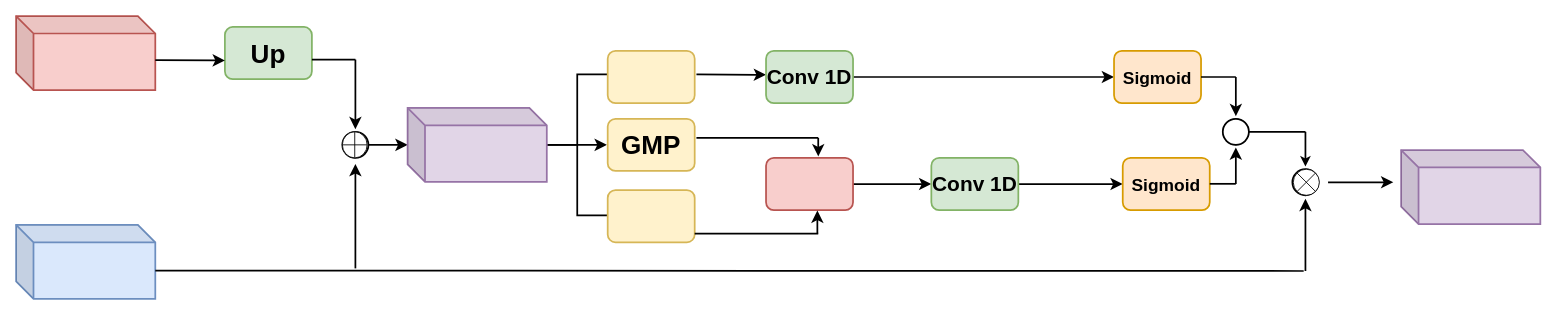
This 1556x314 diagram has some shape labels left out. Here are the shapes that lost their labels. From the top down, the centre of each, then its label:
At pixel 650 77: "AP".
At pixel 809 184: "Concat".
At pixel 650 216: "GAP".
